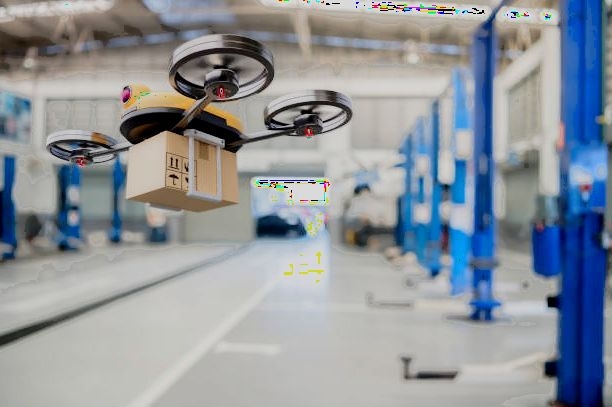Drone: (43, 30, 354, 160)
